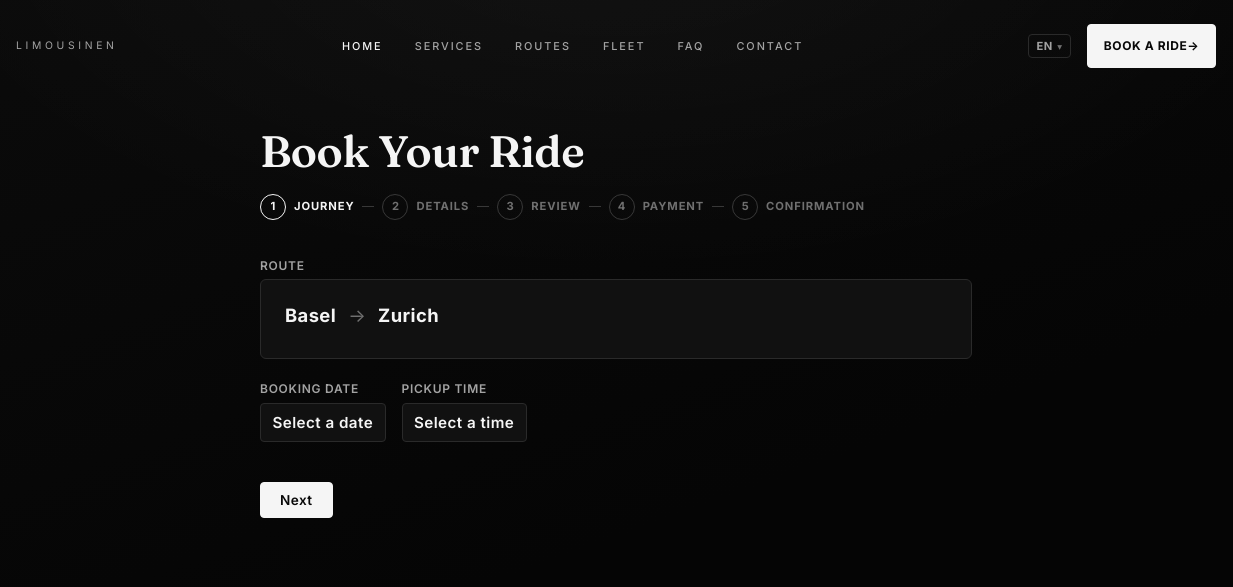
Scenario: BookingPage › clears a field's error as soon as it's corrected, without waiting for the next Next click
The image size is (1233, 587).
Expected: the element named "Route" is shown, left=260, top=279, right=972, bottom=359
Click the button "Next" at (296,500), box left=260, top=482, right=332, bottom=518
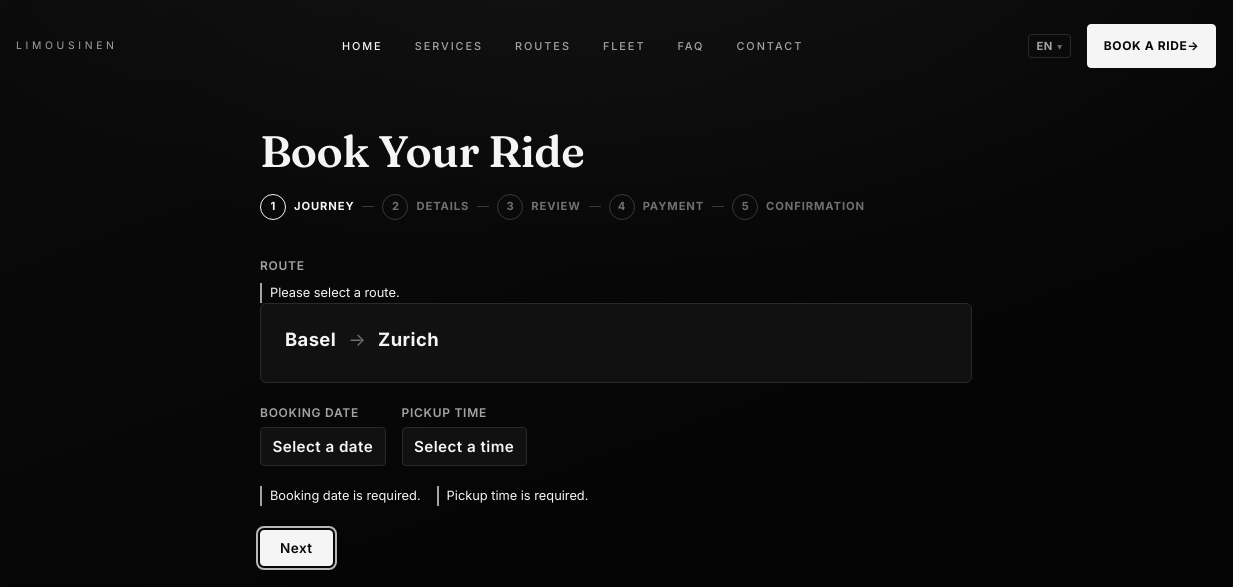
Now the text "Please select a route." is shown, box left=260, top=283, right=972, bottom=303
Click the radio button labelled "Basel → Zurich" at (311,339), box left=260, top=303, right=972, bottom=383
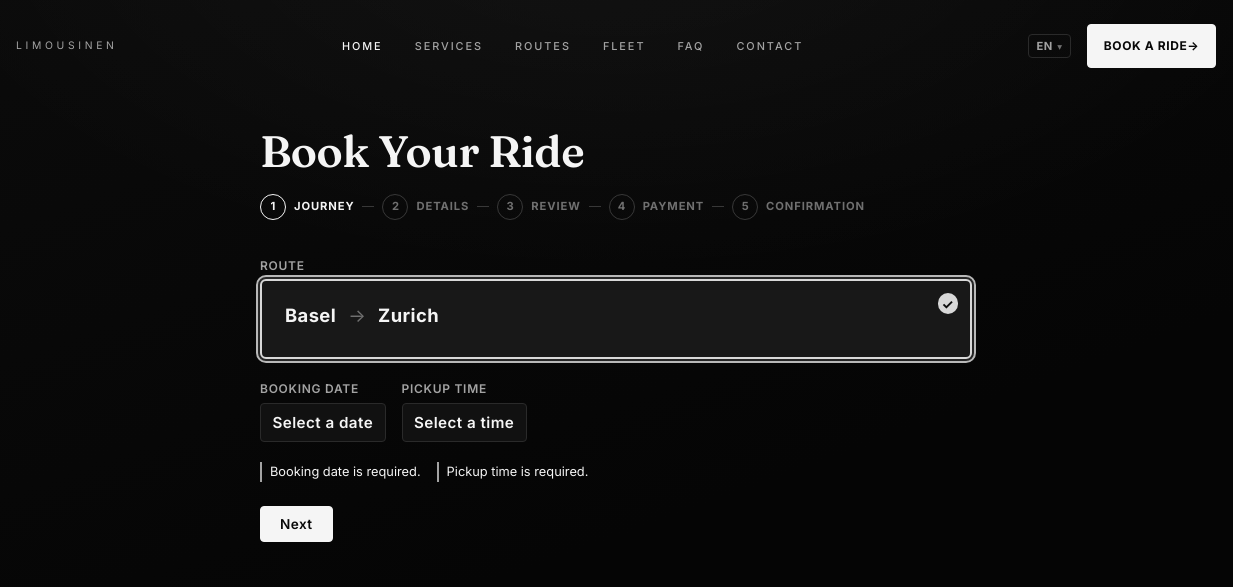
Now the text "Please select a route." is gone
